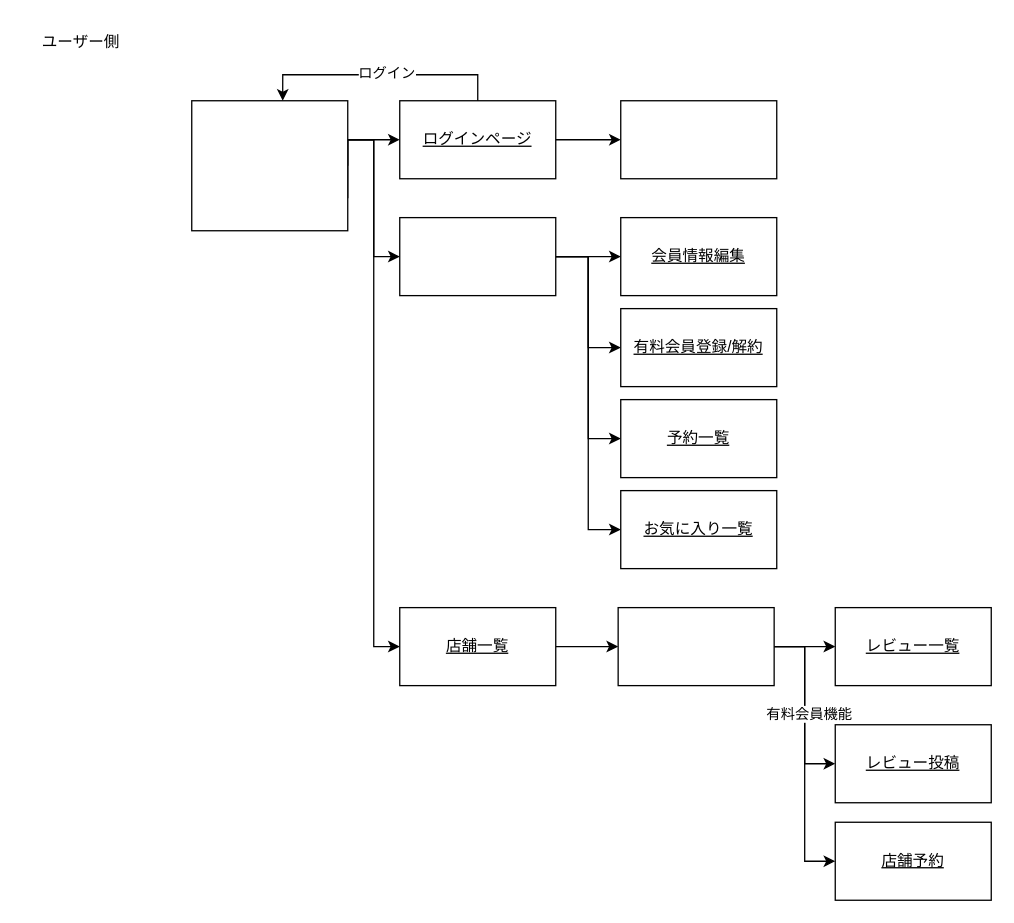
Some shapes in this 1014 by 923 pixel diagram are drawn without their labels. Here are the shapes that lost their labels. From the top down, the centre of each, then its label:
At (x=698, y=139): "会員登録ページ".
At (x=269, y=165): "TOPページ".
At (x=477, y=256): "マイページ".
At (x=695, y=646): "店舗詳細".
